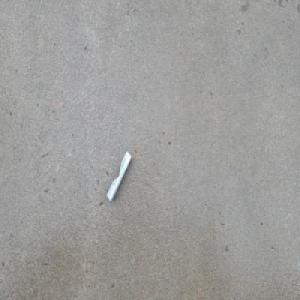ClampPart: (106, 150, 132, 203)
